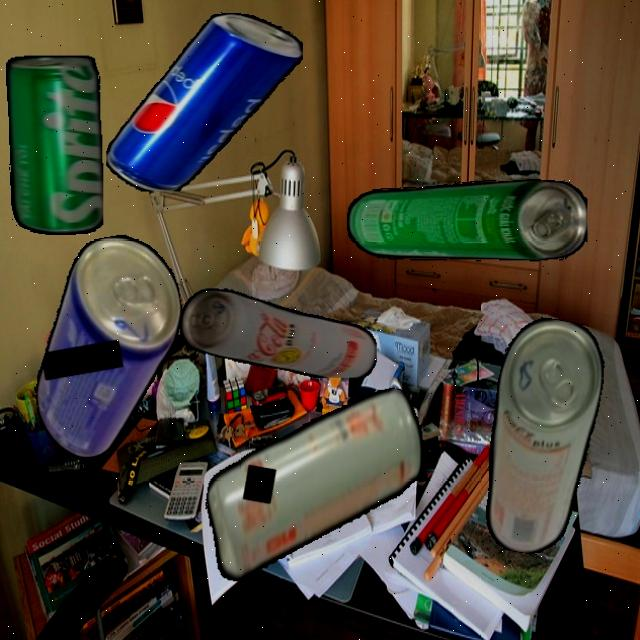debris: (194, 361, 434, 608), (11, 227, 205, 465), (106, 12, 303, 192), (470, 312, 612, 561), (347, 180, 588, 262), (180, 288, 377, 378), (5, 56, 103, 235)
